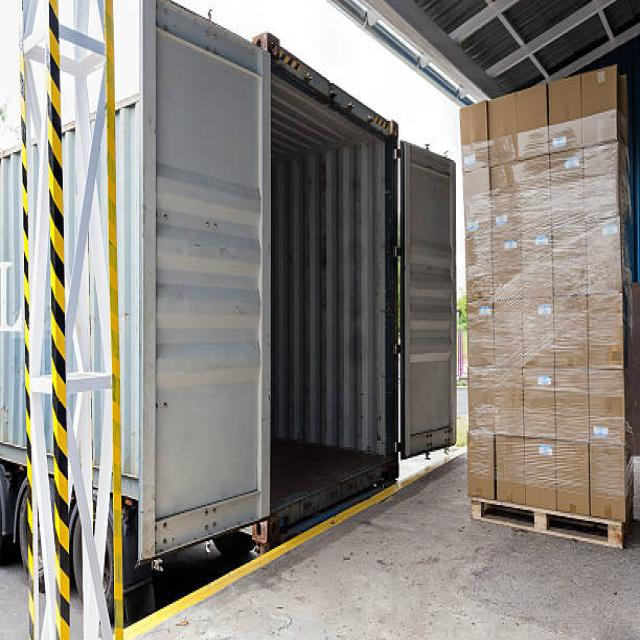Wooden-Pallets: (467, 492, 629, 560)
